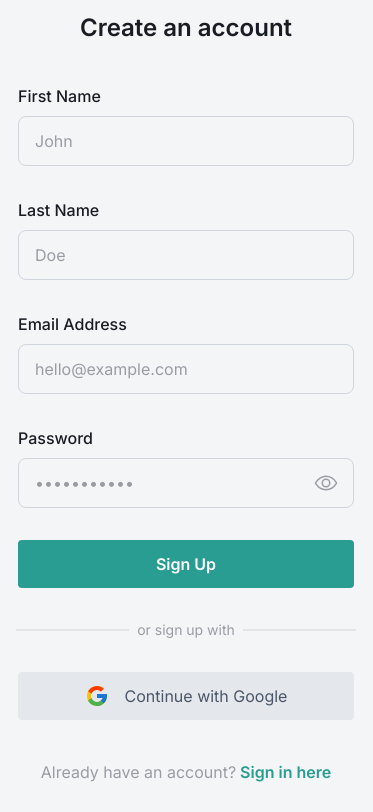
Test: Signup › shows an email error when sign up error includes user
This screenshot has width=373, height=812.
Type "Test" into the field labelled "First Name" at coordinates (186, 141), box x1=18 y1=116 x2=354 y2=166
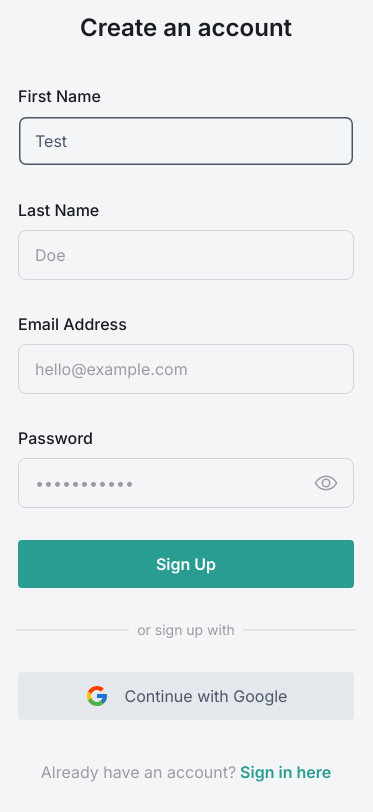
Type "User" into the field labelled "Last Name" at coordinates (186, 255), box x1=18 y1=230 x2=354 y2=280
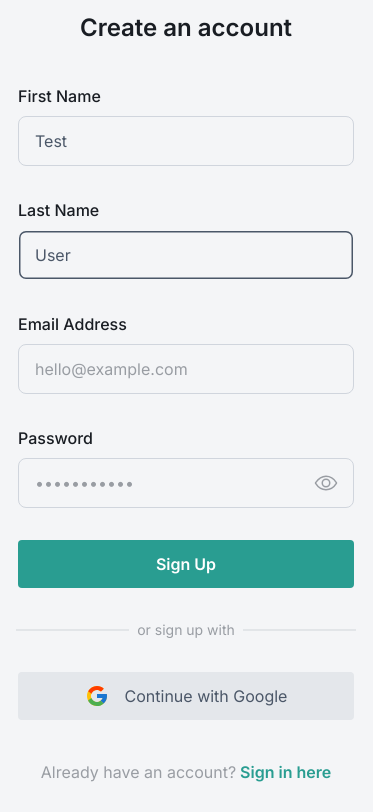
Type "user@test.com" into the field labelled "Email Address" at coordinates (186, 369), box x1=18 y1=344 x2=354 y2=394
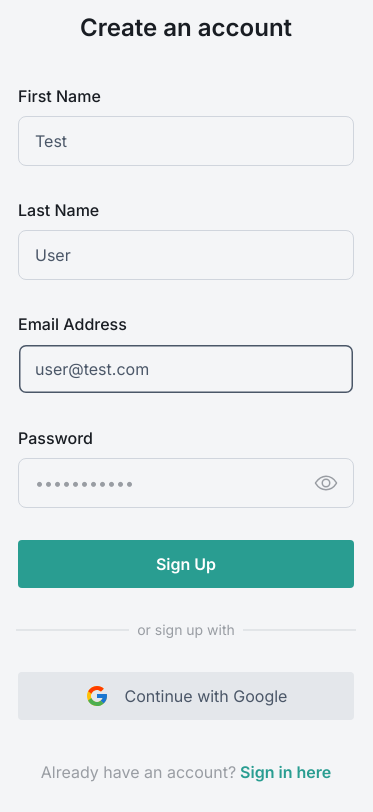
Type "1234" into the password field labelled "Password" at coordinates (186, 483), box x1=18 y1=458 x2=354 y2=508
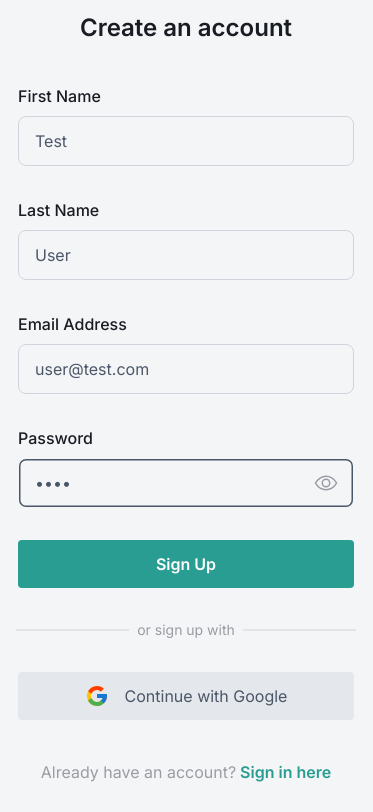
Click the button "Sign Up" at coordinates (186, 564), box x1=18 y1=540 x2=354 y2=588
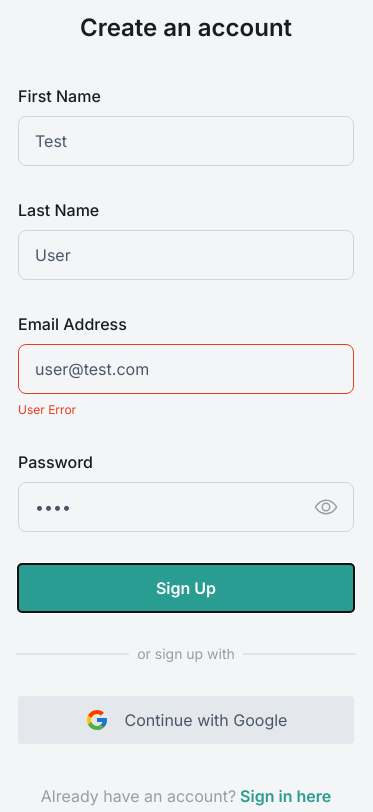
Expected: the text "User Error" is shown, x1=18 y1=402 x2=76 y2=417
